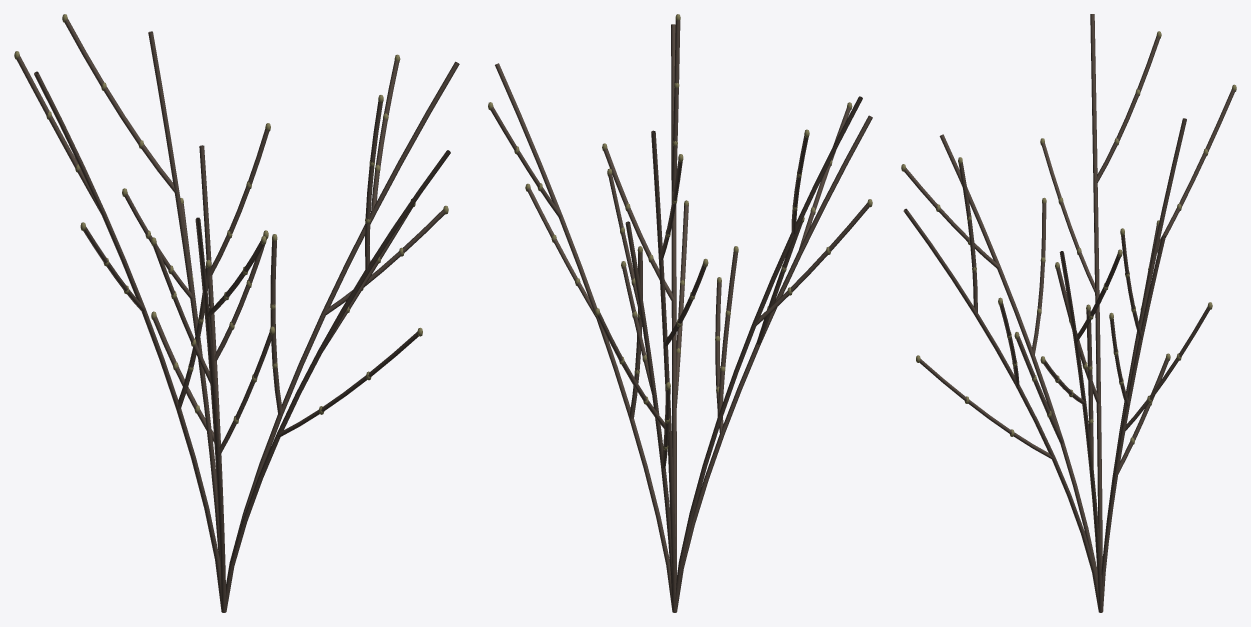
The model's file is twig-2.glb.
3 views of the same model, side by side, from view 1: azimuth 30°, elevation 25°; view 2: azimuth 150°, elevation 25°; view 3: azimuth 270°, elevation 25° (orthographic). The views are drawn at different scales.
Parts seen in each view (by area): view 1: twig-stems, twig-leaves; view 2: twig-stems, twig-leaves; view 3: twig-stems, twig-leaves.
Part boxes in pixels (x1,y1,x2,y2): twig-stems: (17,18,459,612); twig-leaves: (14,14,448,423); twig-stems: (490,20,872,612); twig-leaves: (488,14,872,450); twig-stems: (903,14,1235,612); twig-leaves: (901,31,1236,444).
Size of the model in its own units: 0.5212 by 0.7216 by 0.4248.
